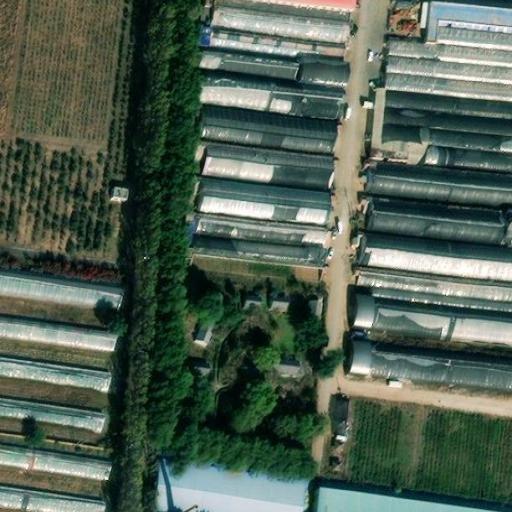building: (155, 459, 305, 512), (313, 483, 511, 512), (418, 0, 512, 45), (369, 87, 386, 156), (345, 336, 369, 371), (192, 311, 217, 343), (353, 294, 376, 328), (272, 356, 302, 375), (188, 357, 212, 378), (304, 292, 323, 317), (265, 290, 290, 309), (107, 180, 130, 200), (239, 293, 263, 309)
